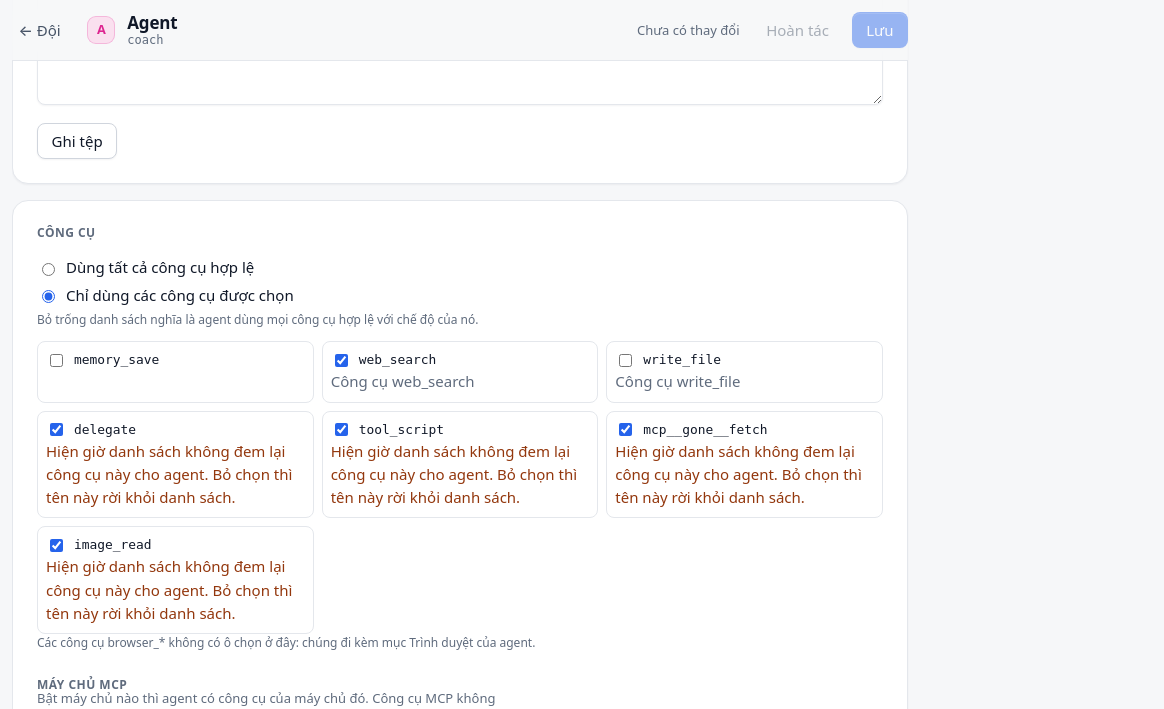
Test: a name the list holds that the server does not list for this agent › stays in the list when another row is ticked: only the person takes a name off
(page scrolled)
Step 1. Click the checkbox labelled "write_file" → (626, 360), box 619,354 -> 632,367
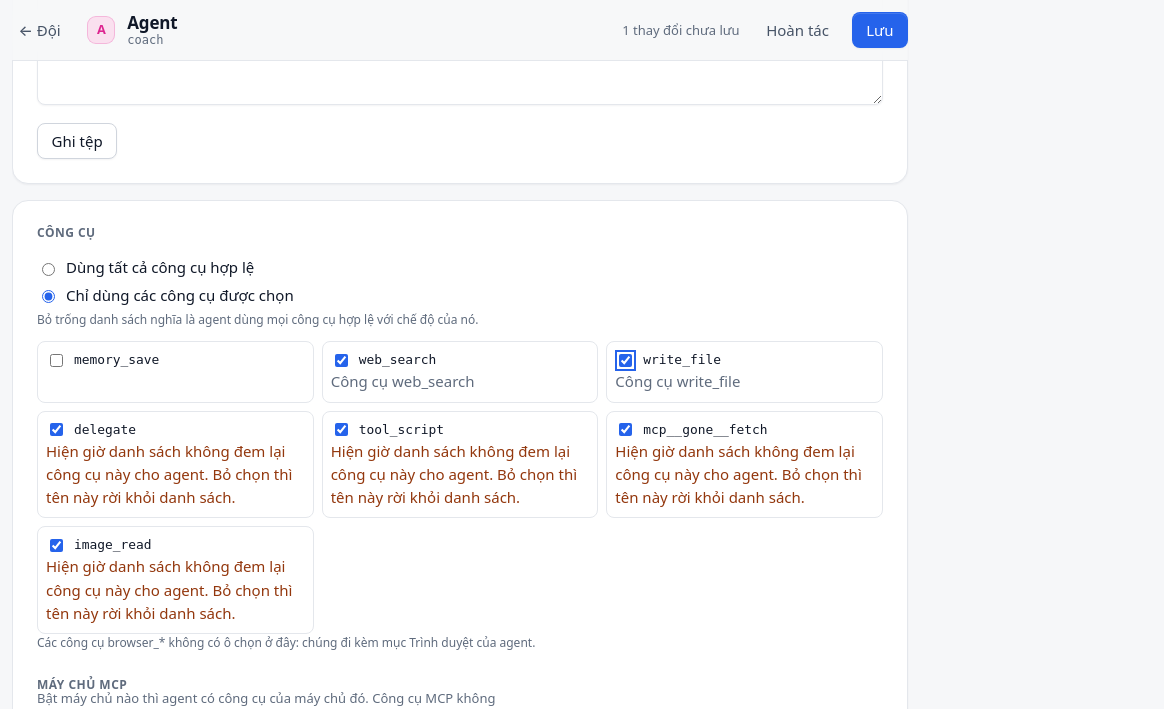
Step 2. Click the button "Lưu" → (880, 30), box 852,12 -> 908,48
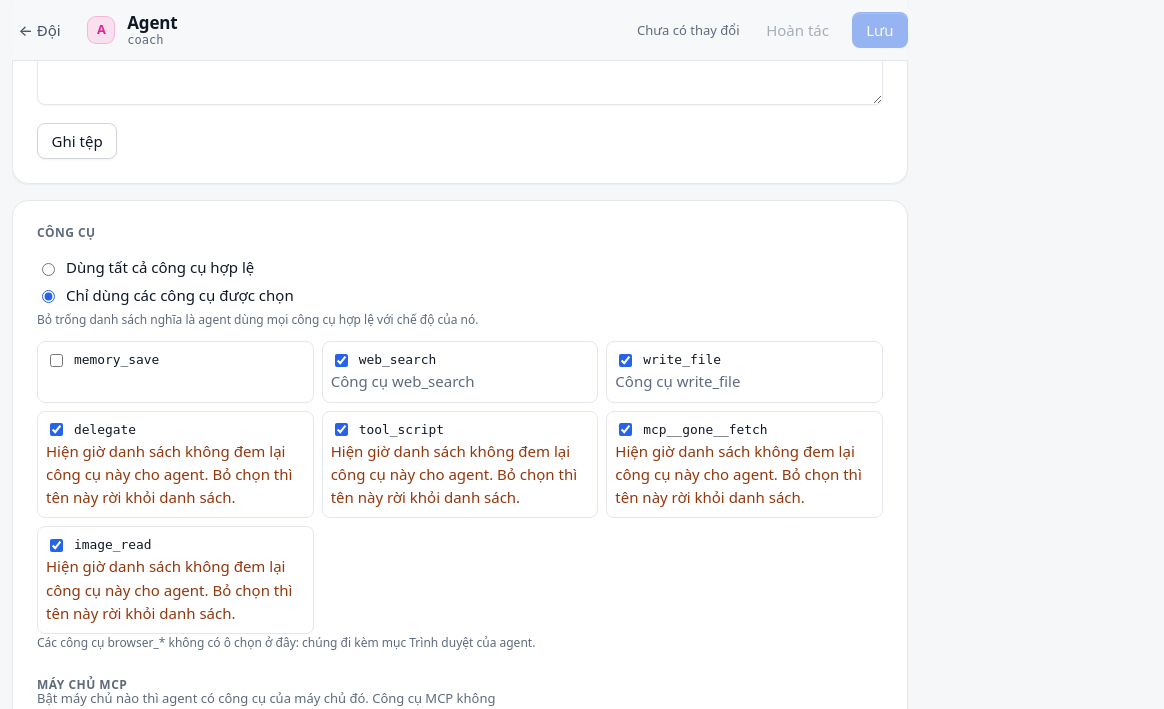
Result: the text "Chưa có thay đổi" is shown at 637,20 -> 740,40
